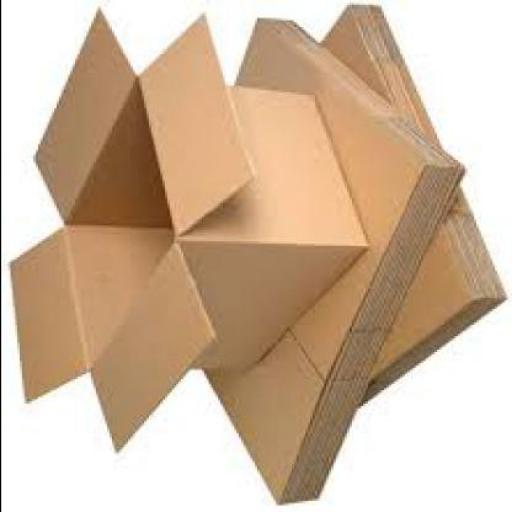cardboard: (7, 6, 367, 448), (193, 16, 462, 501), (316, 2, 505, 402)
